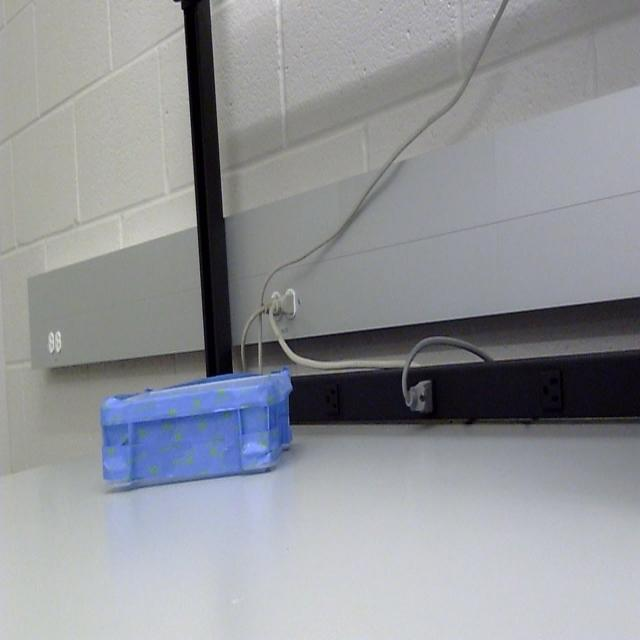bucket: (100, 361, 293, 494)
